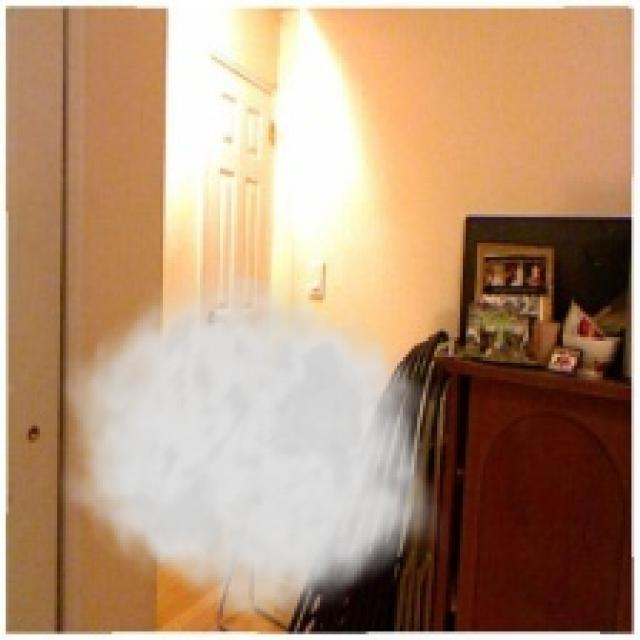Smoke: (57, 257, 449, 632)
